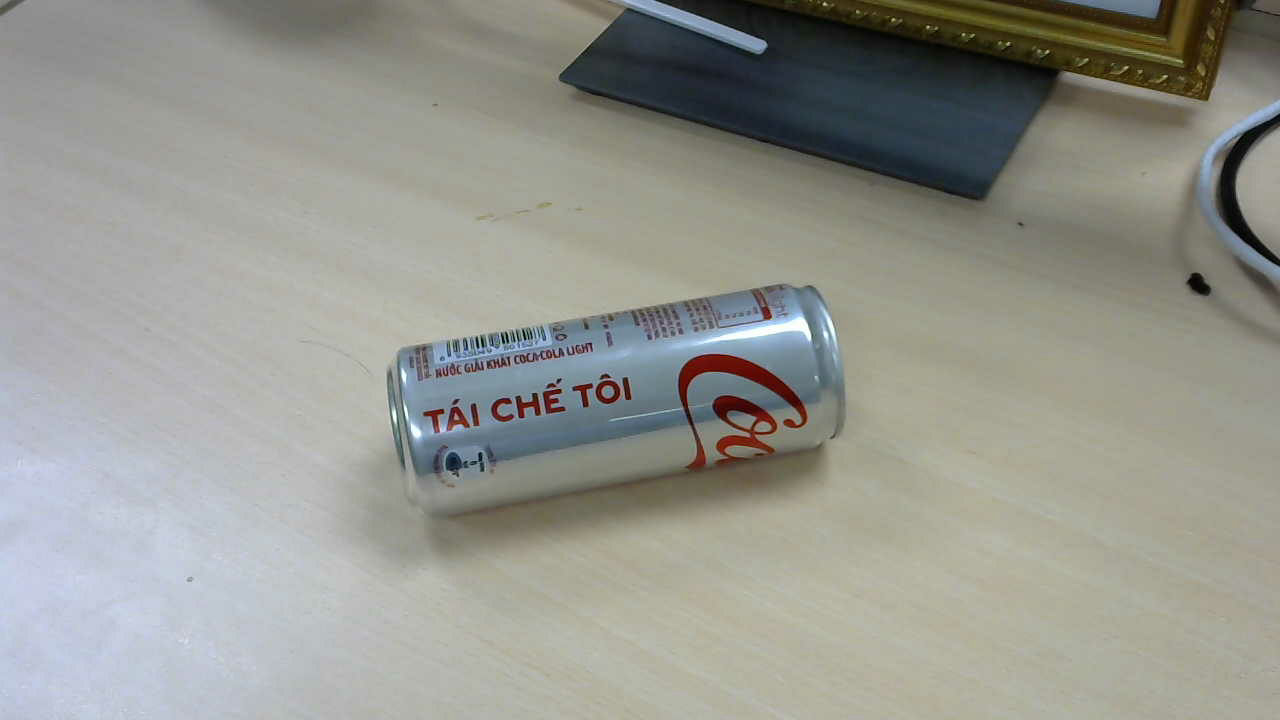Coca_Cola: (387, 286, 854, 548)
